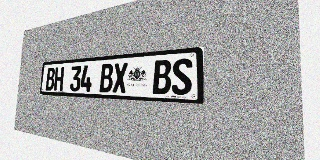3: (70, 66, 81, 91)
4: (80, 65, 93, 92)
B: (152, 59, 171, 95), (99, 63, 113, 93), (45, 67, 55, 91)
H: (54, 67, 64, 91)
S: (171, 58, 192, 95)
X: (112, 62, 128, 93)
